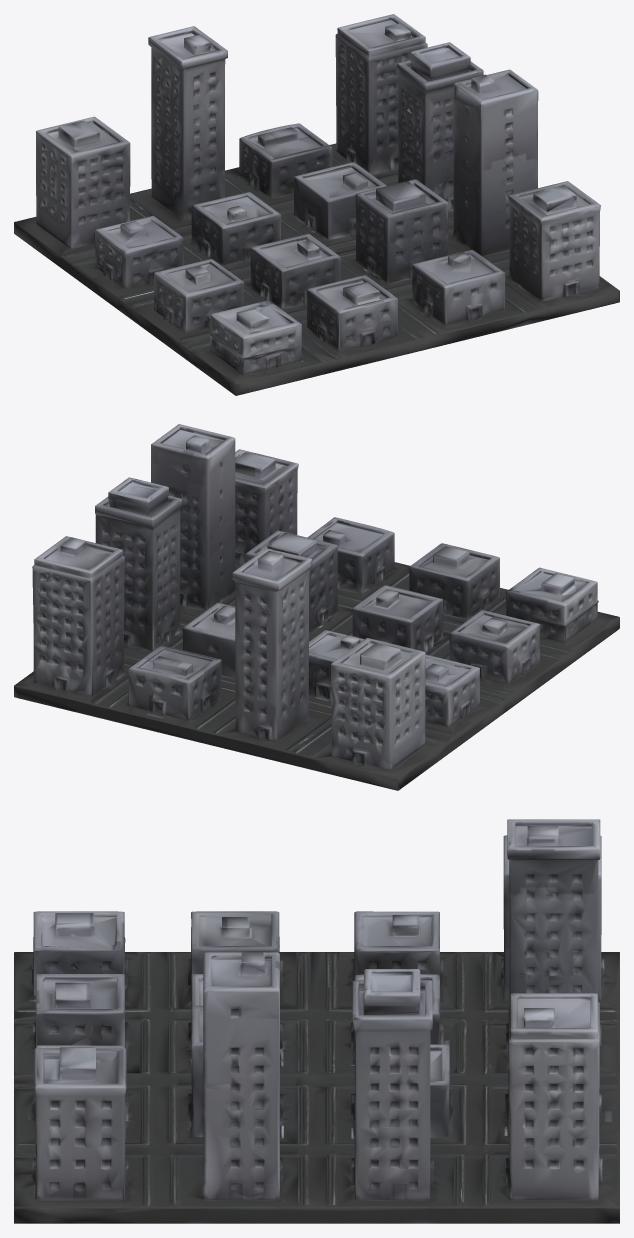
3 renders of one model, top to bottom at view 1: azimuth 30°, elevation 25°; view 2: azimuth 150°, elevation 25°; view 3: azimuth 270°, elevation 25°, orthographic. The views are drawn at different scales.
Parts seen in each view (by area): view 1: node_0; view 2: node_0; view 3: node_0.
Boxes of the visible parts, x1,y1,x2,y2 form: node_0: [14, 14, 619, 395]; node_0: [14, 424, 619, 790]; node_0: [14, 819, 619, 1223].
Bounding box in the file's own units: 0.8108 × 0.3548 × 0.811.
1 material, 1 textured.
